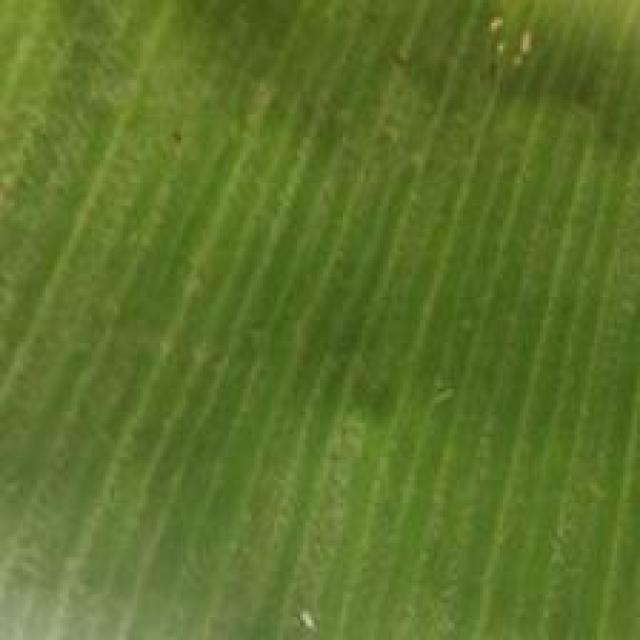Black_leaf_spot: (17, 0, 640, 586)
